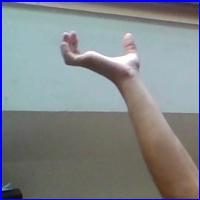space: (53, 26, 148, 86)
